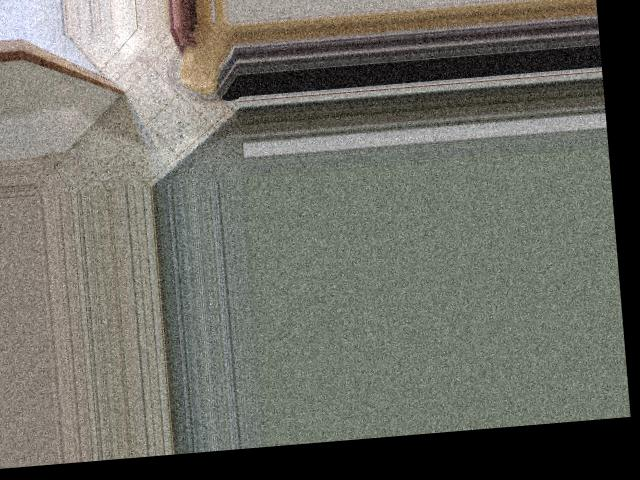cheese: (164, 19, 240, 102)
